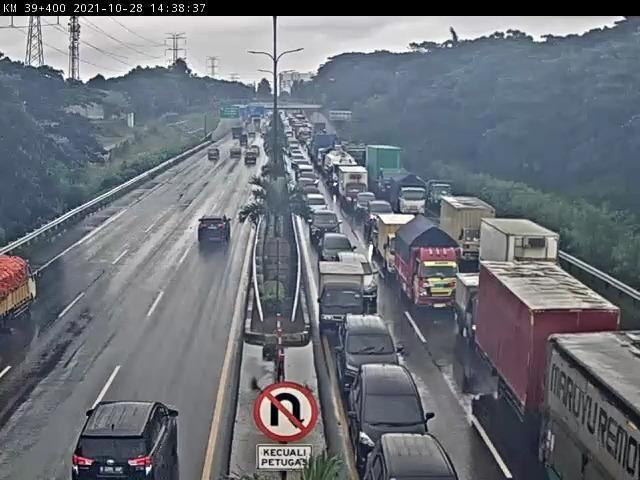car: (74, 396, 188, 480), (341, 363, 438, 444), (362, 428, 459, 480), (333, 311, 405, 381), (194, 209, 237, 262), (314, 231, 360, 263), (307, 212, 352, 242), (364, 201, 395, 235), (298, 193, 333, 218), (355, 192, 379, 216)
truck: (486, 266, 621, 413), (542, 331, 640, 480), (396, 221, 460, 310), (479, 221, 563, 285), (437, 197, 505, 266), (1, 255, 51, 336), (313, 259, 373, 320), (379, 215, 421, 275), (367, 145, 408, 202), (457, 271, 485, 344), (397, 176, 434, 219), (426, 178, 456, 212), (338, 167, 365, 201)
